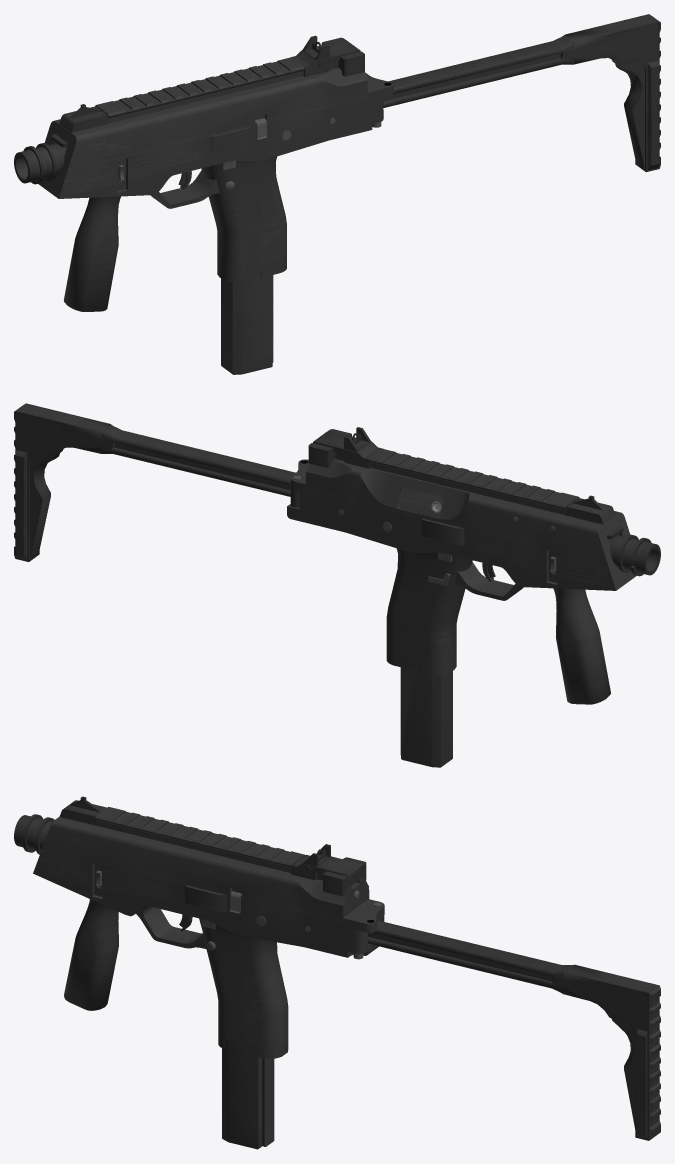
The model's file is smg_2.glb.
The picture shows the model from 3 angles, top to bottom: view 1: azimuth 30°, elevation 25°; view 2: azimuth 150°, elevation 25°; view 3: azimuth 330°, elevation 25°; orthographic projection.
Parts seen in each view (by area): view 1: Object_mp_smg1_0, Object_mp_smg2_0, Object_mp_smg3_0; view 2: Object_mp_smg1_0, Object_mp_smg2_0, Object_mp_smg3_0; view 3: Object_mp_smg1_0, Object_mp_smg2_0, Object_mp_smg3_0.
Boxes of the visible parts, bbox=[...] form: Object_mp_smg1_0: bbox=[38, 57, 393, 311]; Object_mp_smg2_0: bbox=[383, 14, 660, 172]; Object_mp_smg3_0: bbox=[14, 35, 381, 374]; Object_mp_smg1_0: bbox=[287, 448, 636, 704]; Object_mp_smg2_0: bbox=[14, 403, 299, 561]; Object_mp_smg3_0: bbox=[293, 427, 660, 767]; Object_mp_smg1_0: bbox=[33, 806, 384, 1058]; Object_mp_smg2_0: bbox=[368, 916, 660, 1140]; Object_mp_smg3_0: bbox=[14, 796, 381, 1149].
Size of the model in its own units: 3.81 by 1.77 by 0.302.
Materials: 3 (3 with a texture image).
